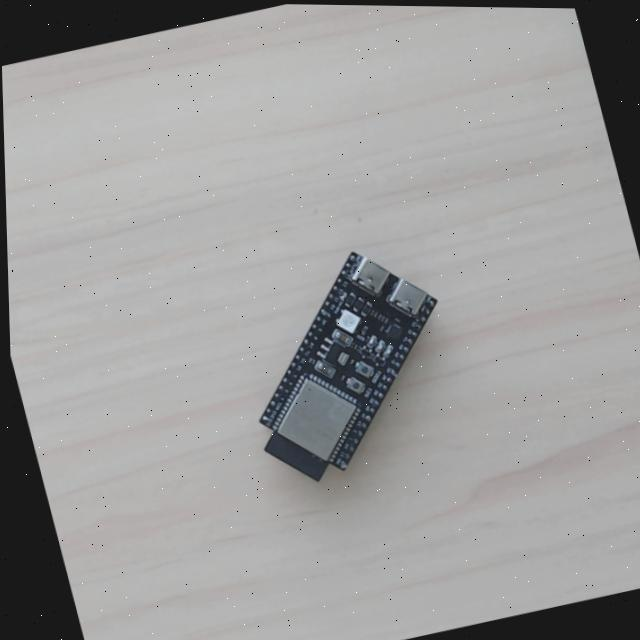ESP32S3-Devkit: (246, 250, 440, 490)
